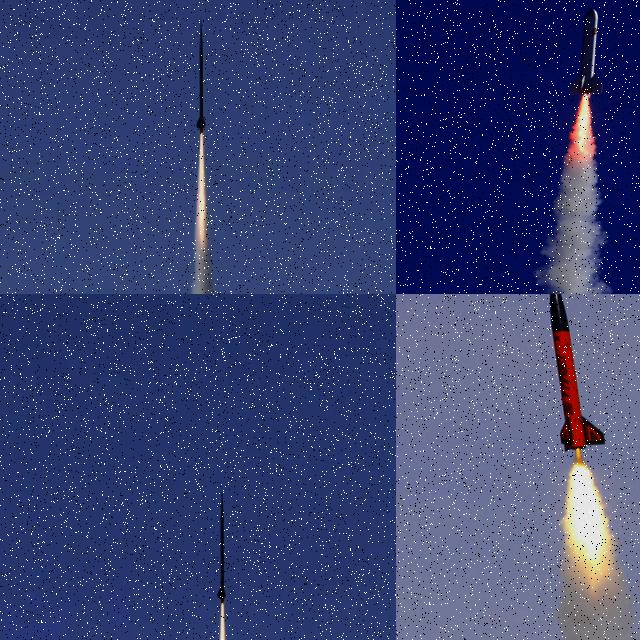Rocket: (546, 294, 607, 451), (565, 2, 617, 100), (196, 20, 206, 135), (217, 490, 227, 605)
